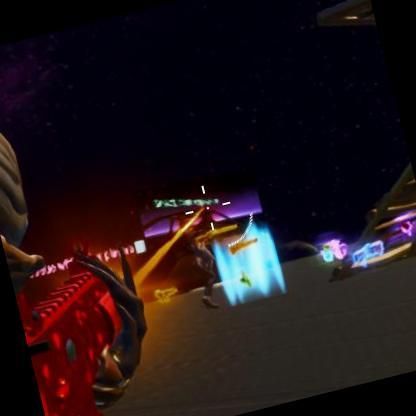person: (182, 225, 229, 312)
